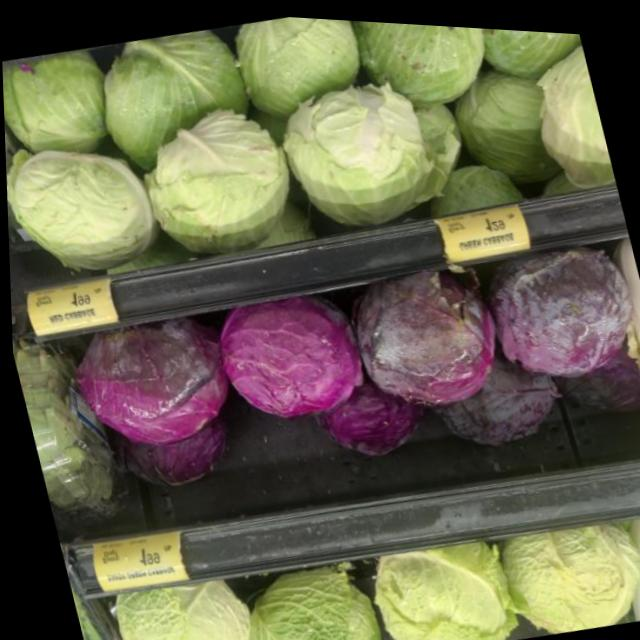Cabbage: (269, 54, 453, 244), (458, 219, 640, 390), (4, 122, 171, 300), (145, 89, 307, 271), (54, 304, 235, 463), (202, 284, 380, 445), (86, 17, 257, 179), (352, 243, 509, 413), (345, 509, 516, 640), (490, 490, 640, 639), (208, 10, 372, 131), (216, 540, 388, 640), (345, 16, 511, 118), (1, 40, 122, 162), (98, 565, 257, 640)
